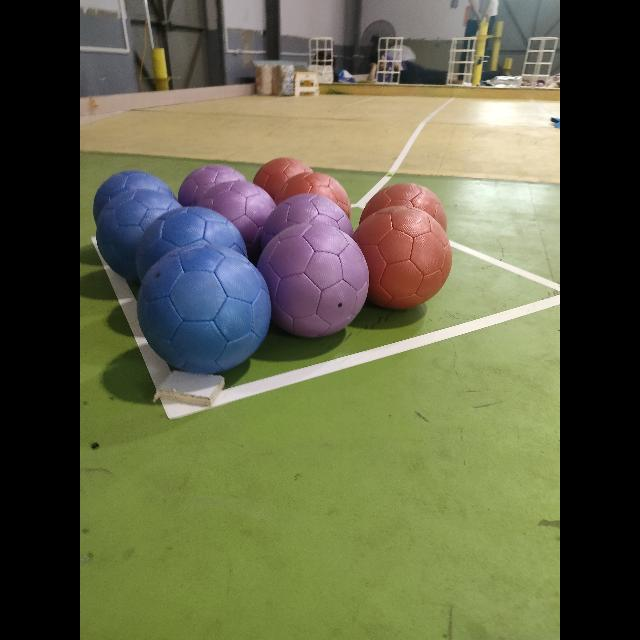B: (137, 246, 270, 374), (138, 205, 245, 292), (94, 170, 174, 223)
P: (257, 219, 369, 337), (178, 164, 248, 206)
R: (354, 207, 452, 309), (253, 158, 313, 205)
S: (517, 32, 557, 92), (446, 31, 478, 91), (372, 33, 404, 91), (304, 35, 336, 91)
